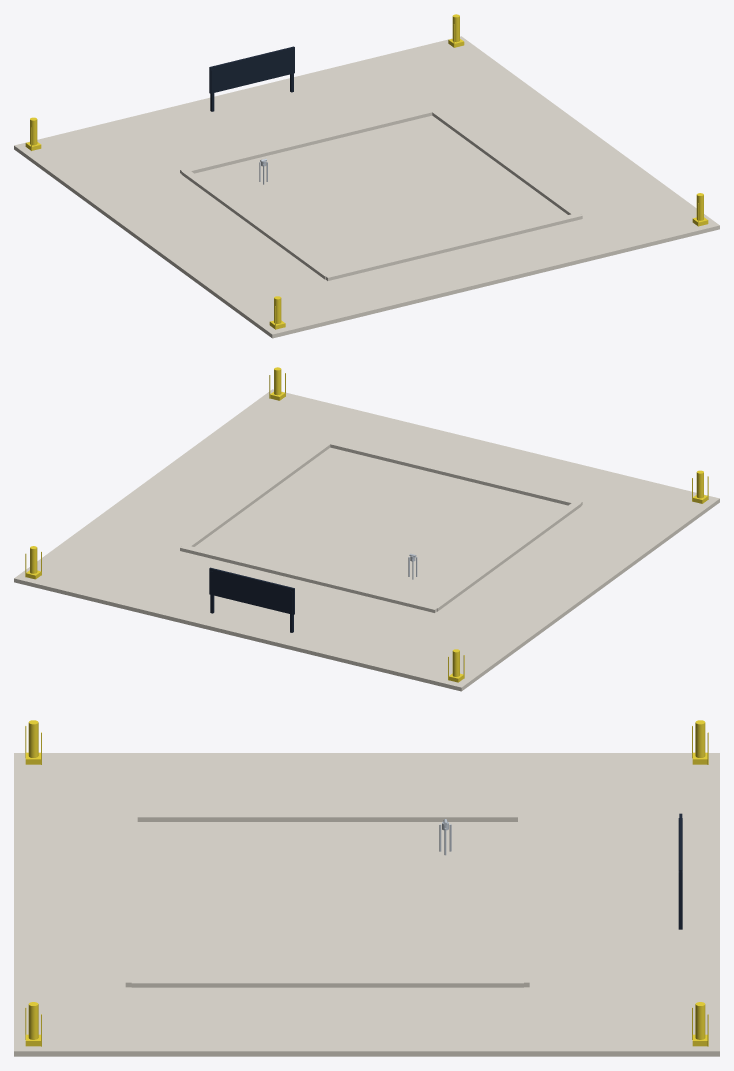
File: hq_06_interior_l0.glb
3 views of the same model, one above another, from view 1: azimuth 30°, elevation 25°; view 2: azimuth 150°, elevation 25°; view 3: azimuth 270°, elevation 25° (orthographic). The views are drawn at different scales.
Parts seen in each view (by area): view 1: GEO_Interior_Plot_Excavation_Pad, GEO_Interior_Foundation_Trench_Curbs, GEO_Interior_Project_Billboard, GEO_Interior_Survey_Boundary_Pylons; view 2: GEO_Interior_Plot_Excavation_Pad, GEO_Interior_Foundation_Trench_Curbs, GEO_Interior_Project_Billboard, GEO_Interior_Survey_Boundary_Pylons; view 3: GEO_Interior_Plot_Excavation_Pad, GEO_Interior_Foundation_Trench_Curbs, GEO_Interior_Survey_Boundary_Pylons, GEO_Interior_Project_Billboard.
Part boxes in pixels (x1=…): GEO_Interior_Plot_Excavation_Pad: x1=14, y1=36, x2=719, y2=338; GEO_Interior_Foundation_Trench_Curbs: x1=180, y1=107, x2=582, y2=280; GEO_Interior_Project_Billboard: x1=209, y1=46, x2=294, y2=111; GEO_Interior_Survey_Boundary_Pylons: x1=25, y1=14, x2=708, y2=329; GEO_Interior_Plot_Excavation_Pad: x1=14, y1=389, x2=719, y2=691; GEO_Interior_Foundation_Trench_Curbs: x1=180, y1=439, x2=582, y2=612; GEO_Interior_Project_Billboard: x1=209, y1=567, x2=294, y2=632; GEO_Interior_Survey_Boundary_Pylons: x1=25, y1=367, x2=708, y2=682; GEO_Interior_Plot_Excavation_Pad: x1=14, y1=753, x2=719, y2=1056; GEO_Interior_Foundation_Trench_Curbs: x1=125, y1=812, x2=529, y2=987; GEO_Interior_Survey_Boundary_Pylons: x1=25, y1=720, x2=708, y2=1046; GEO_Interior_Project_Billboard: x1=678, y1=813, x2=682, y2=929.
Size of what is drawn, in the model's own units: 36 by 3.7 by 36.
